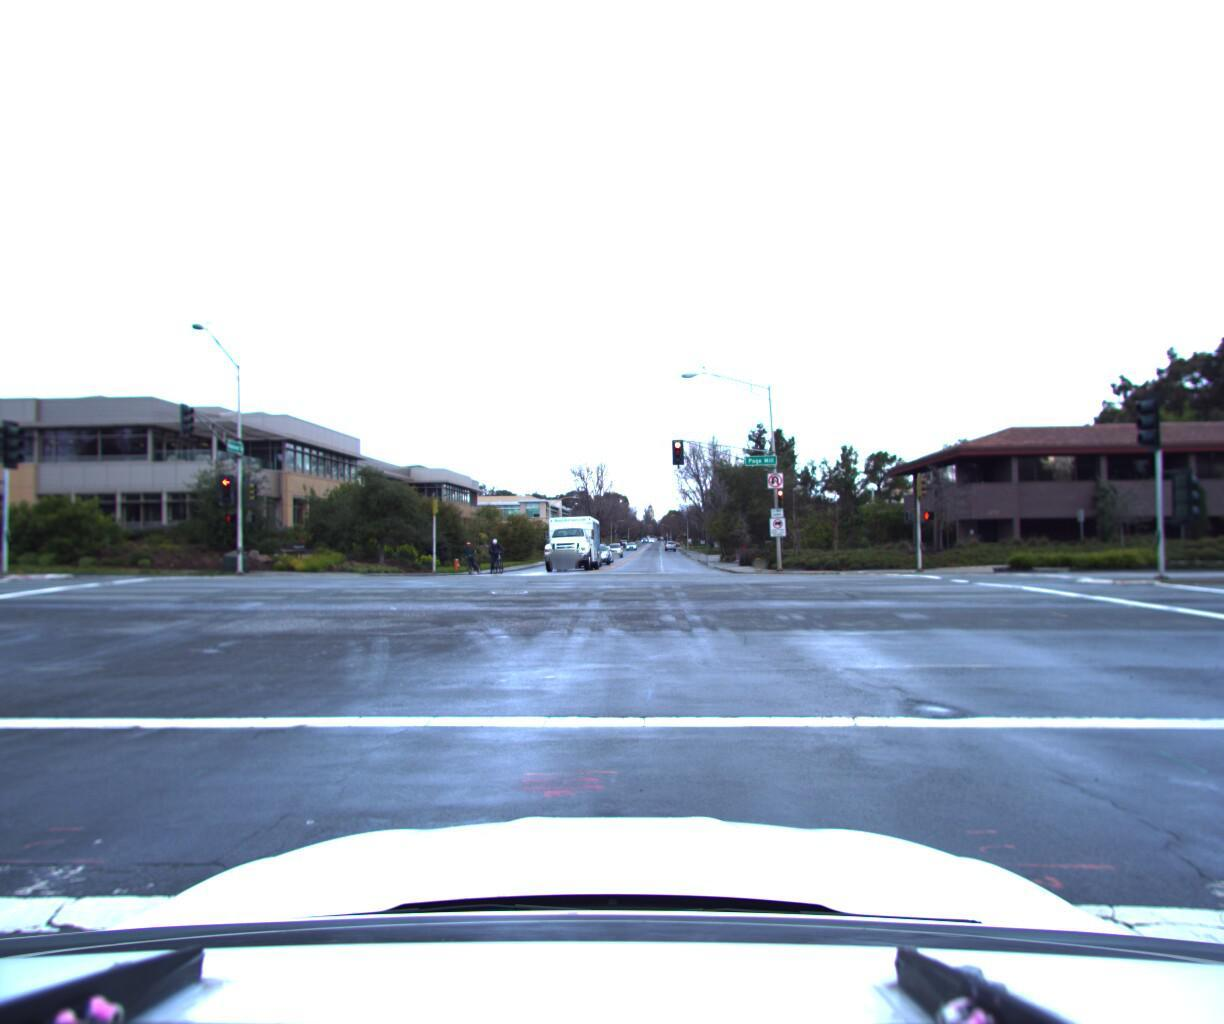bicycle: (461, 538, 491, 577), (489, 537, 506, 575)
car: (588, 541, 617, 566), (0, 523, 4, 594)
truck: (539, 510, 609, 574)
